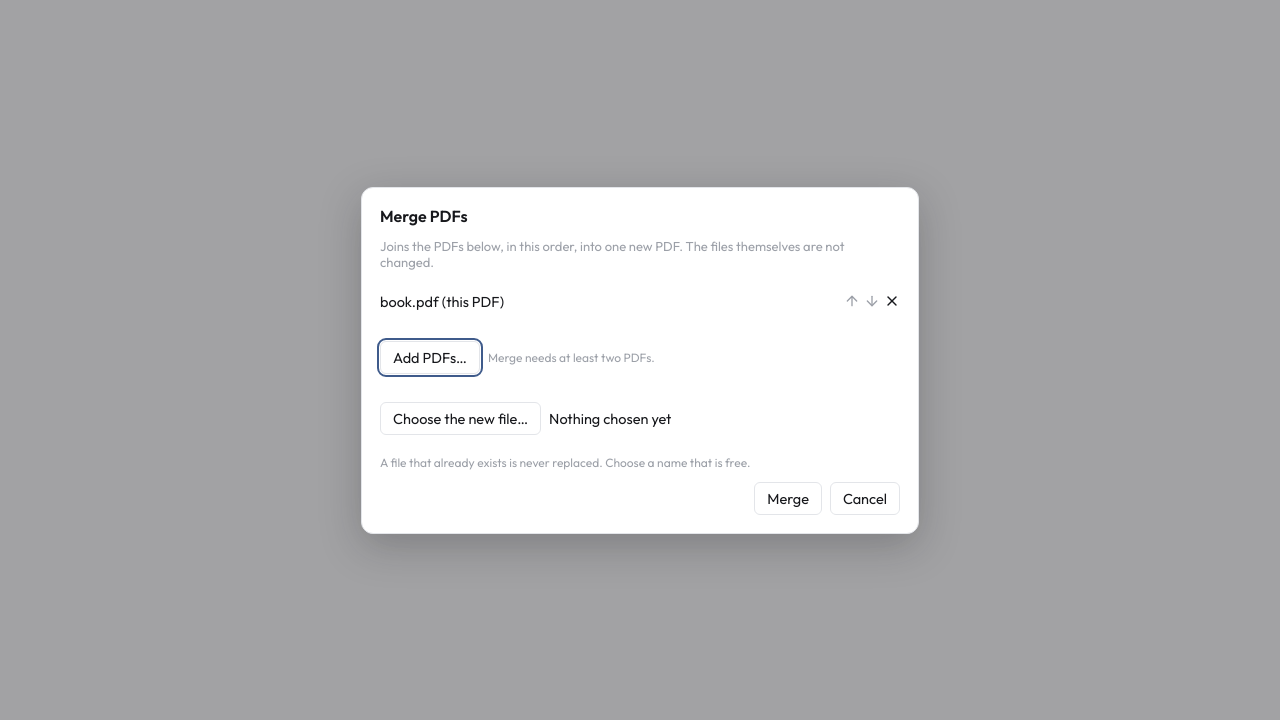
Test: merge_joins_the_pdfs_in_the_order_listed_into_the_file_chosen
Click the button "Add PDFs…": {"x": 430, "y": 357} [380,340,480,374]
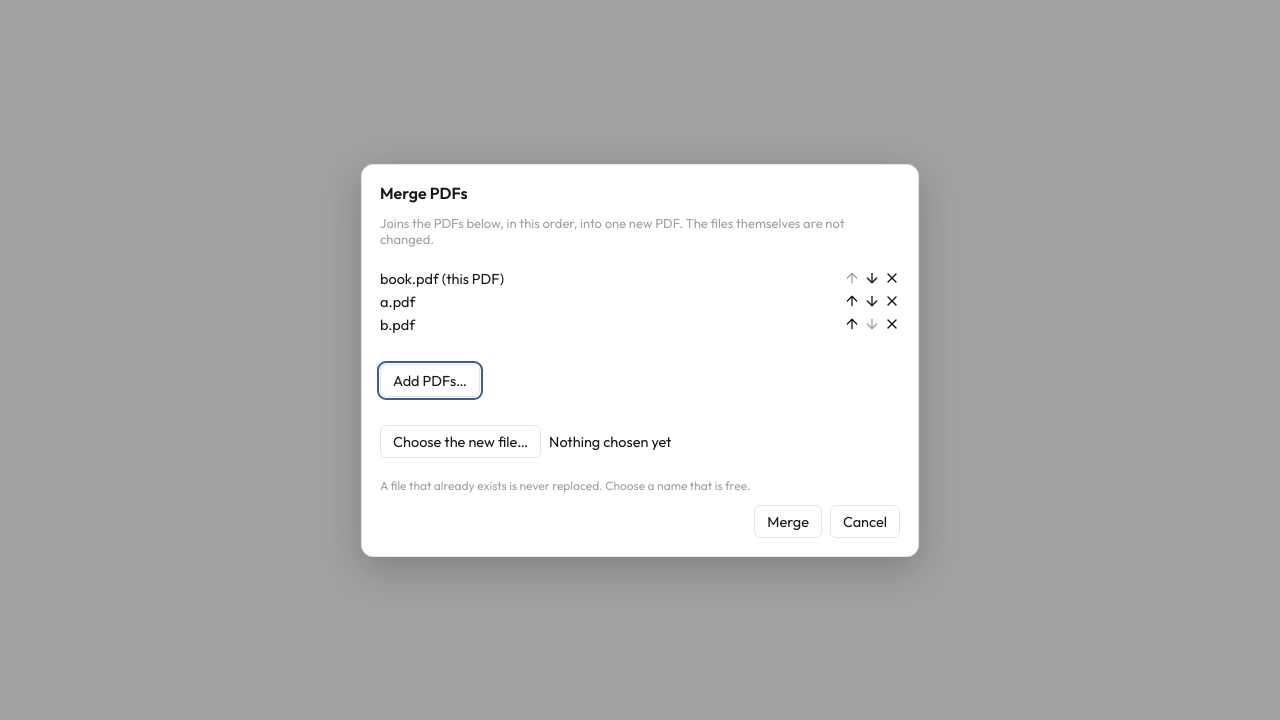
Expected: the button "Merge" is disabled, [754,504,822,538]
Now the number of list items is 3, box [380,266,900,290]; [380,290,900,312]; [380,312,900,336]
Click the button "Choose the new file…": {"x": 461, "y": 441} [380,424,541,458]
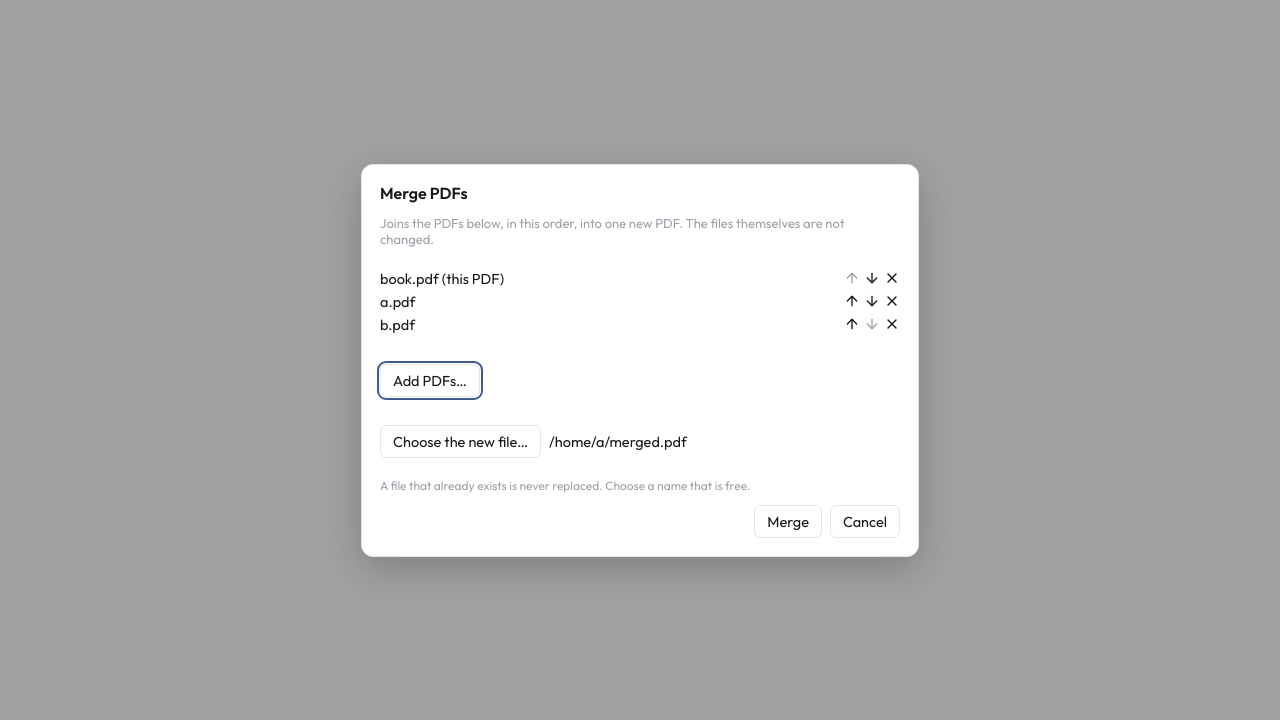
Now the text with test id "pdf-job-target" shows "merged.pdf", box [549,432,687,450]
Click the button named "Move b.pdf up": {"x": 852, "y": 324} [844,316,860,332]
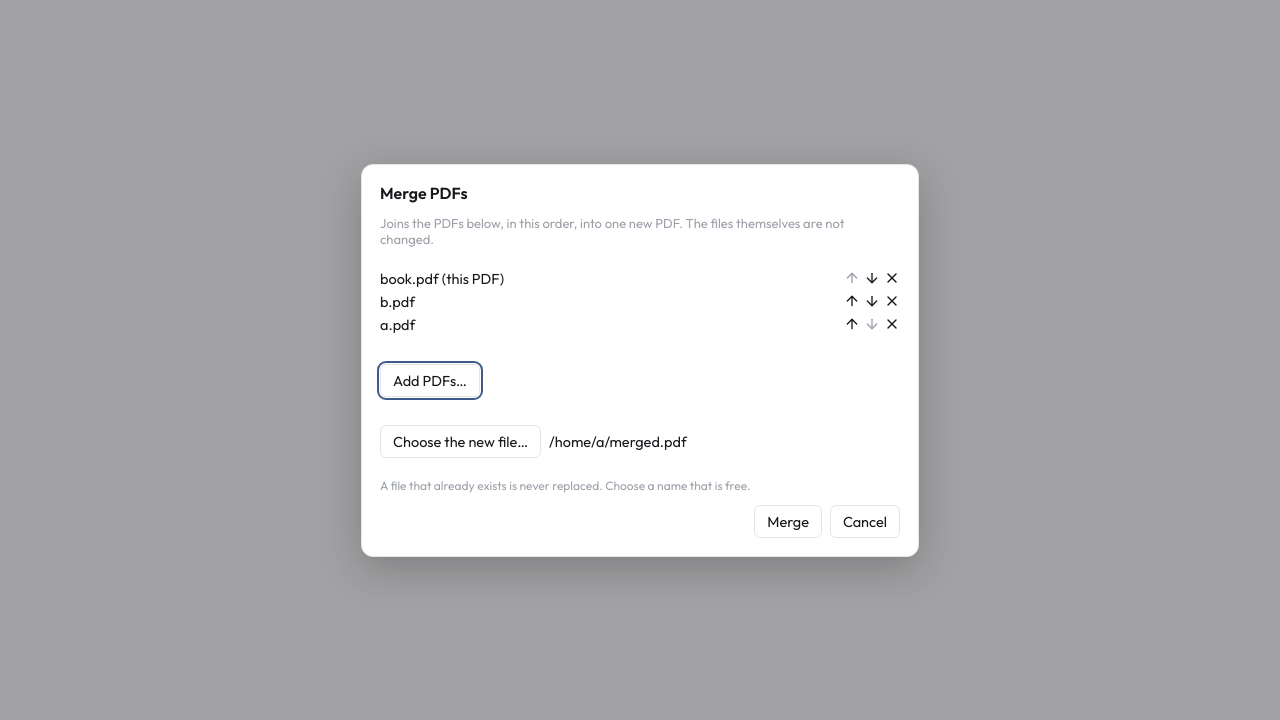
Click the button "Merge": {"x": 788, "y": 521} [754,504,822,538]
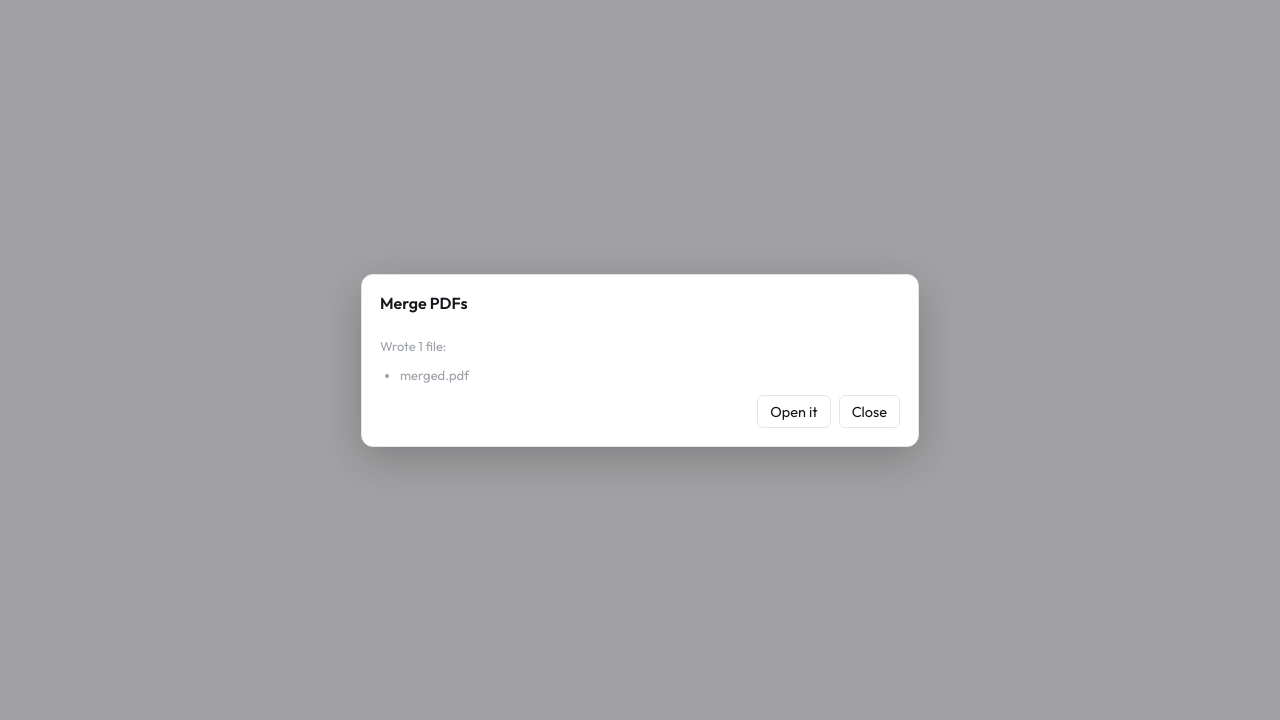
Now the message "Wrote 1 file: merged.pdf" is shown, box [380,338,469,382]
